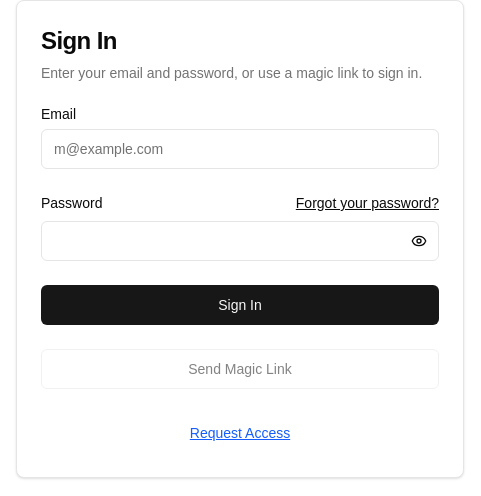
SignInForm Integration › allows toggling password visibility during form interaction
Enter password
Step 1. Type "mypassword123" into the password field labelled "Password" → (240, 241), box [41, 221, 439, 261]
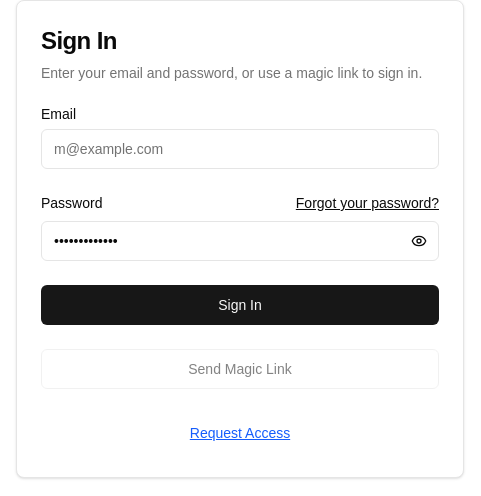
Toggle visibility
Step 2. Click the button named "show password" → (419, 241), box [399, 221, 439, 261]
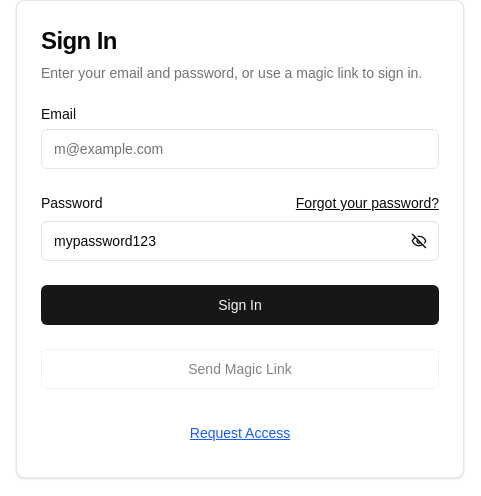
expect the field labelled "Password" shows its text: met, box [41, 221, 439, 261]
Toggle back to hidden
Step 3. Click the button named "show password" → (419, 241), box [399, 221, 439, 261]
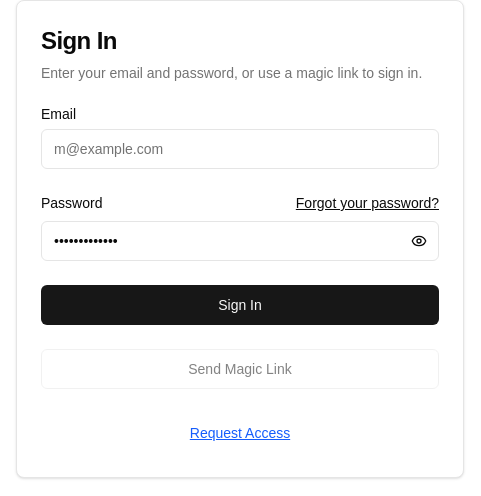
expect the password field labelled "Password" hides its text: met, box [41, 221, 439, 261]
